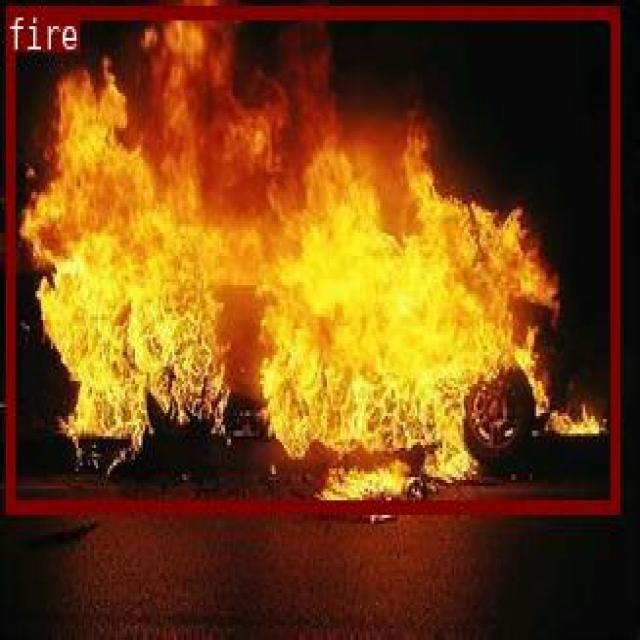fire: (4, 4, 617, 510)
